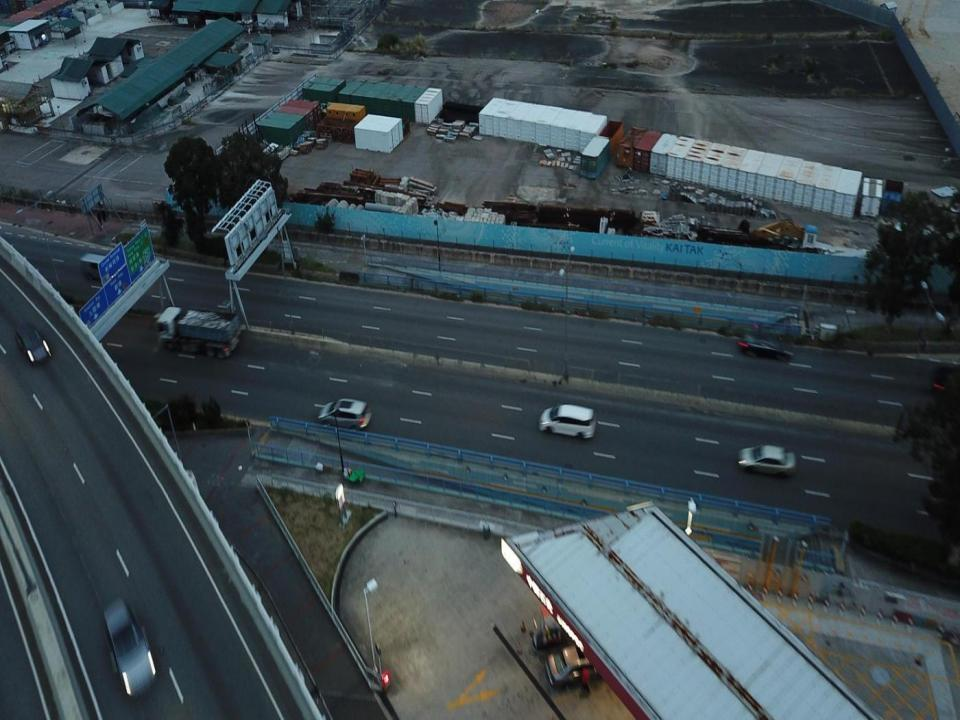car: (98, 598, 162, 699), (542, 641, 610, 690), (740, 442, 804, 492), (535, 401, 598, 440), (8, 317, 57, 366), (734, 334, 794, 371), (318, 396, 370, 430)
truck: (156, 306, 241, 360), (76, 251, 120, 280)
